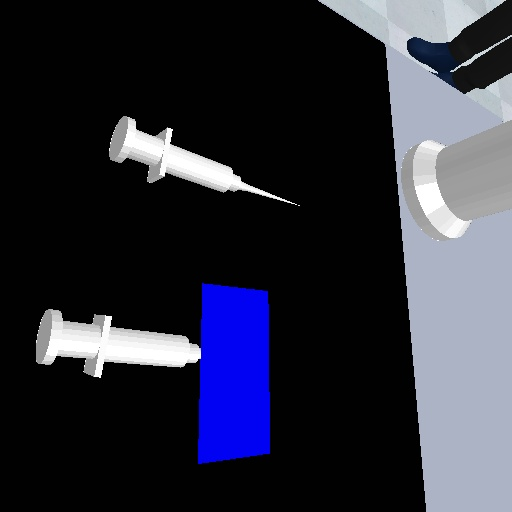jeringuilla: (102, 105, 306, 213), (27, 302, 202, 381)
